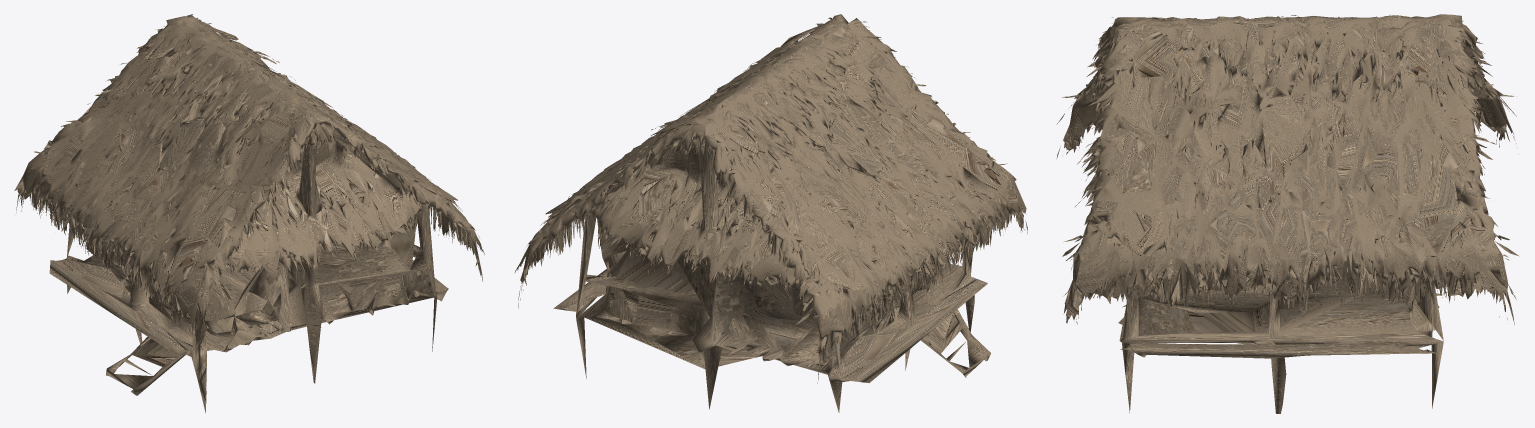
Rendered from field-hut.glb.
The picture shows the model from 3 angles, left to right: view 1: azimuth 30°, elevation 25°; view 2: azimuth 150°, elevation 25°; view 3: azimuth 270°, elevation 25°; orthographic projection. The views are drawn at different scales.
Bounding box in the file's own units: 1.74 × 1.41 × 1.8.
1 material, 1 textured.
